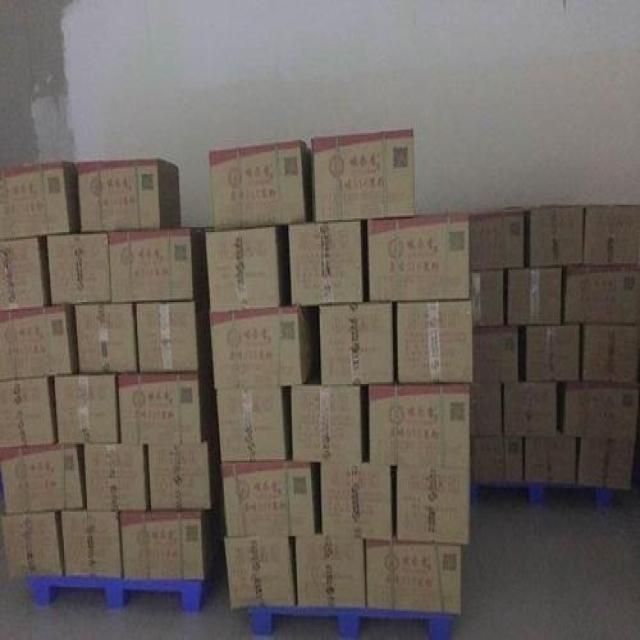box: (311, 128, 419, 220), (367, 213, 470, 302), (209, 142, 314, 229), (210, 305, 317, 389), (369, 384, 470, 469), (110, 227, 206, 305), (205, 227, 291, 314), (77, 159, 183, 229), (119, 510, 224, 580), (364, 539, 462, 611), (116, 374, 216, 444), (223, 463, 319, 534), (288, 220, 366, 307), (396, 299, 475, 384), (0, 304, 79, 382), (1, 160, 79, 239), (320, 304, 394, 384), (393, 468, 470, 544), (215, 387, 291, 464), (291, 386, 366, 461), (3, 445, 84, 514), (136, 300, 211, 372), (146, 440, 220, 512), (321, 463, 392, 538), (225, 534, 296, 609), (296, 534, 367, 606), (46, 230, 111, 305), (52, 375, 122, 444), (564, 261, 639, 324), (559, 382, 639, 440), (73, 305, 138, 372), (83, 442, 147, 510), (60, 512, 123, 575), (3, 512, 64, 577), (526, 203, 584, 270), (0, 236, 51, 311), (0, 377, 54, 447), (581, 324, 639, 384), (470, 208, 525, 271), (507, 266, 564, 324), (522, 323, 580, 379), (585, 203, 640, 261), (503, 381, 558, 435), (580, 439, 635, 492), (472, 326, 520, 382), (525, 435, 576, 483), (470, 435, 522, 480), (468, 381, 504, 439), (472, 271, 507, 324)
